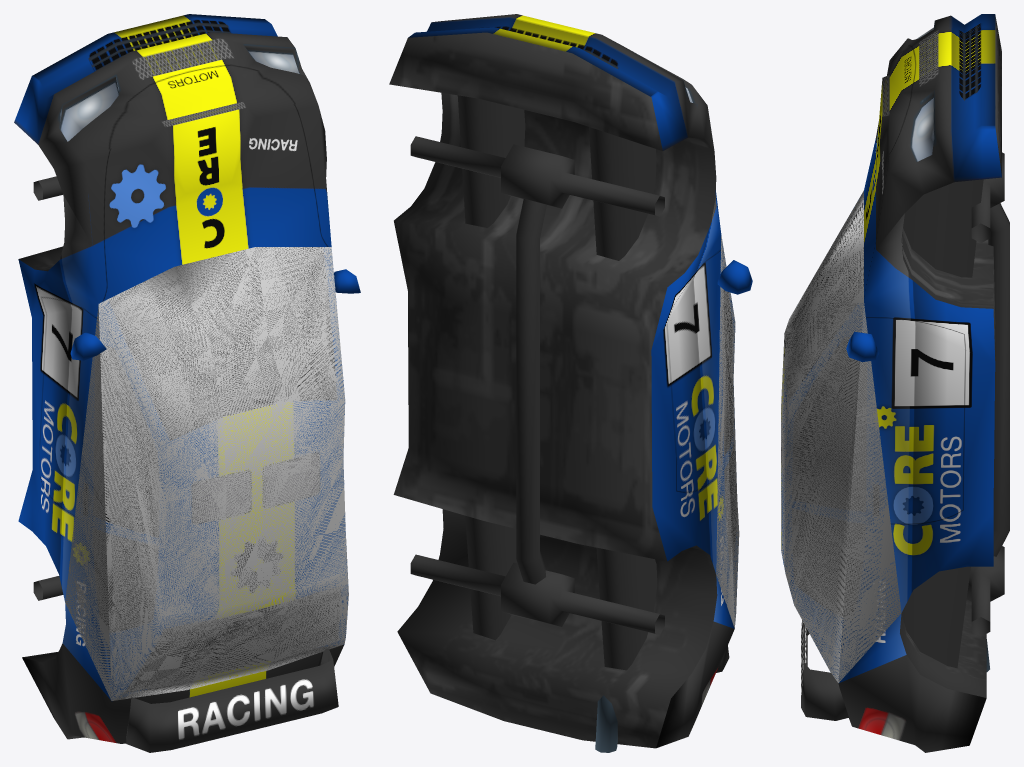
File: cordo_super500.obj
The picture shows the model from 3 angles, left to right: view 1: azimuth 30°, elevation 25°; view 2: azimuth 150°, elevation 25°; view 3: azimuth 270°, elevation 25°; orthographic projection. The views are drawn at different scales.
Parts seen in each view (by area): view 1: seat_seat.001; view 2: seat_seat.001; view 3: seat_seat.001.
Boxes of the visible parts, x1,y1,x2,y2 form: seat_seat.001: (14, 14, 360, 752); seat_seat.001: (389, 14, 752, 752); seat_seat.001: (781, 14, 1009, 752).
Size of the model in its own units: 1.86 by 4.16 by 1.31.
